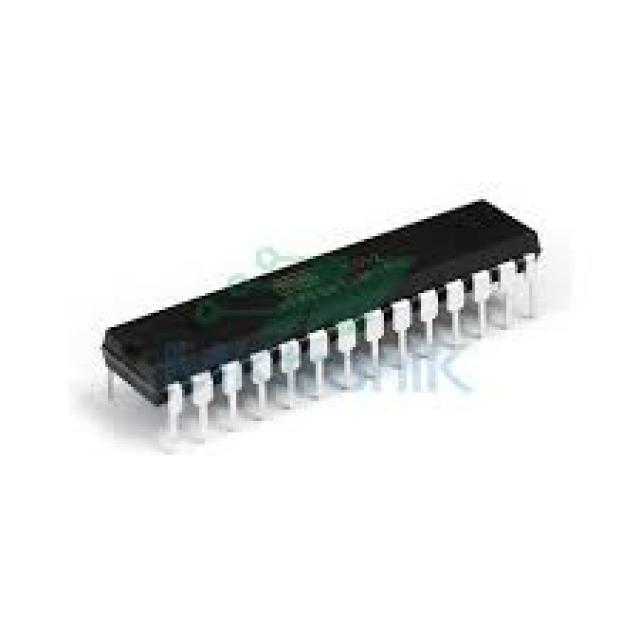atmega: (94, 193, 546, 450)
